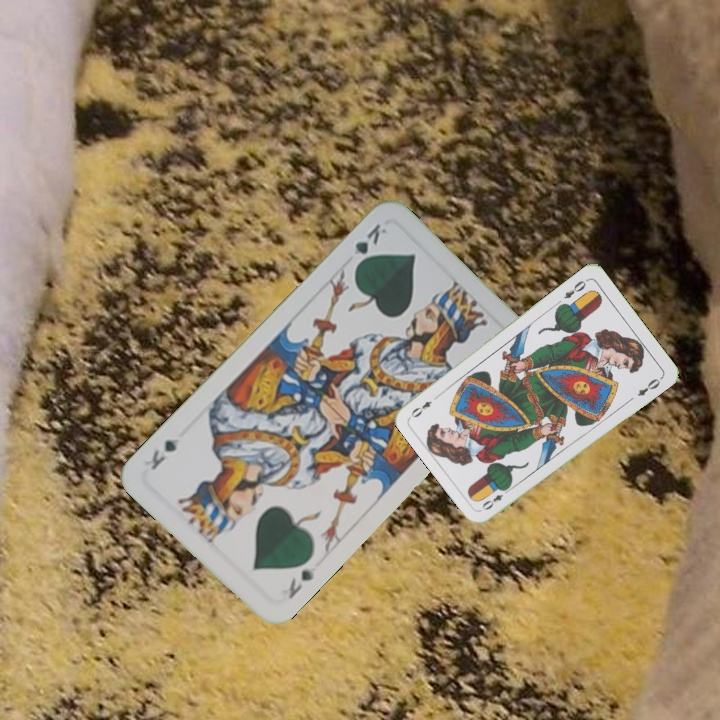EO: (478, 484, 513, 513), (560, 275, 591, 301)
GK: (349, 219, 390, 271), (284, 564, 317, 602)
